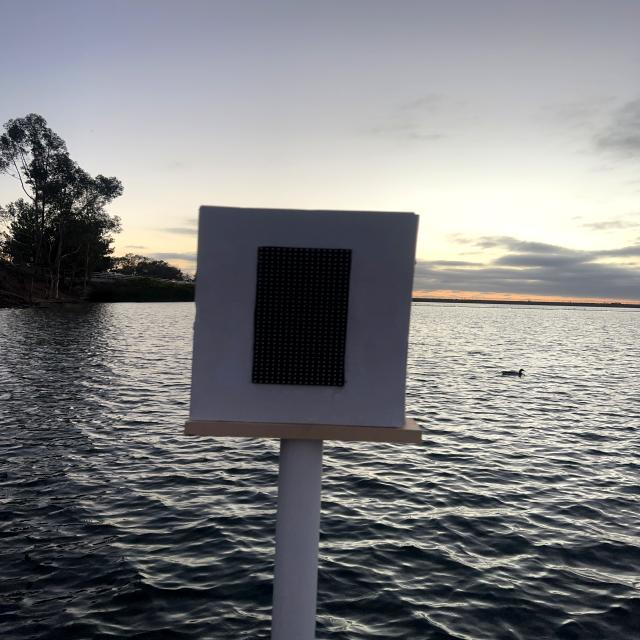led: (218, 216, 374, 415)
